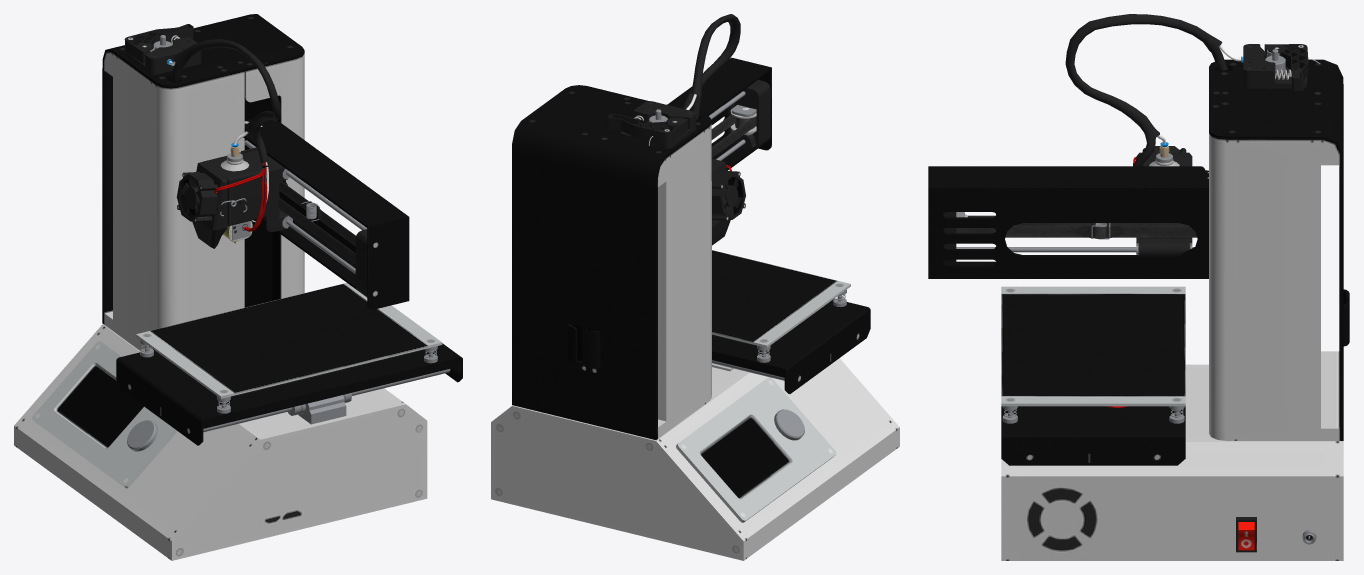
File: 3d_model_of_a_3d_printer.glb
3 views of the same model, side by side, from view 1: azimuth 30°, elevation 25°; view 2: azimuth 150°, elevation 25°; view 3: azimuth 270°, elevation 25° (orthographic). The views are drawn at different scales.
Visible parts, largest first — view 1: Object_3, Object_4, Object_5; view 2: Object_3, Object_4, Object_5; view 3: Object_3, Object_4, Object_5.
Boxes of the visible parts, <box> form: Object_3: <box>14,14,462,540</box>; Object_4: <box>14,27,437,560</box>; Object_5: <box>57,95,367,447</box>; Object_3: <box>512,14,899,541</box>; Object_4: <box>491,94,899,560</box>; Object_5: <box>676,91,789,498</box>; Object_3: <box>928,14,1349,552</box>; Object_4: <box>956,45,1343,560</box>; Object_5: <box>956,148,1194,252</box>.
Bounding box in the file's own units: 14.17 × 20.48 × 16.35.
1 material, 1 textured.
